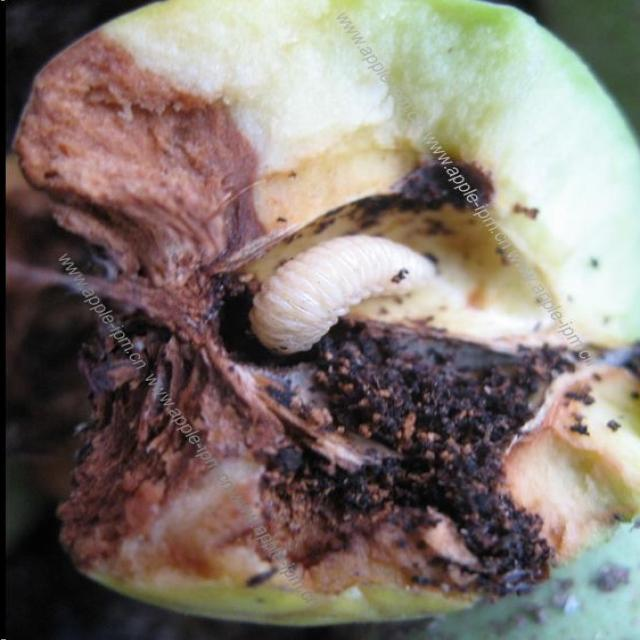peach borer: (239, 234, 439, 365)
